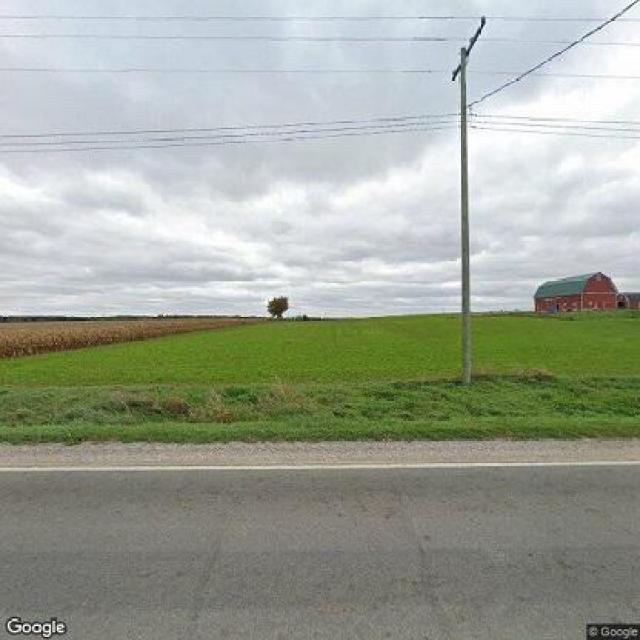pole: (434, 17, 494, 381)
